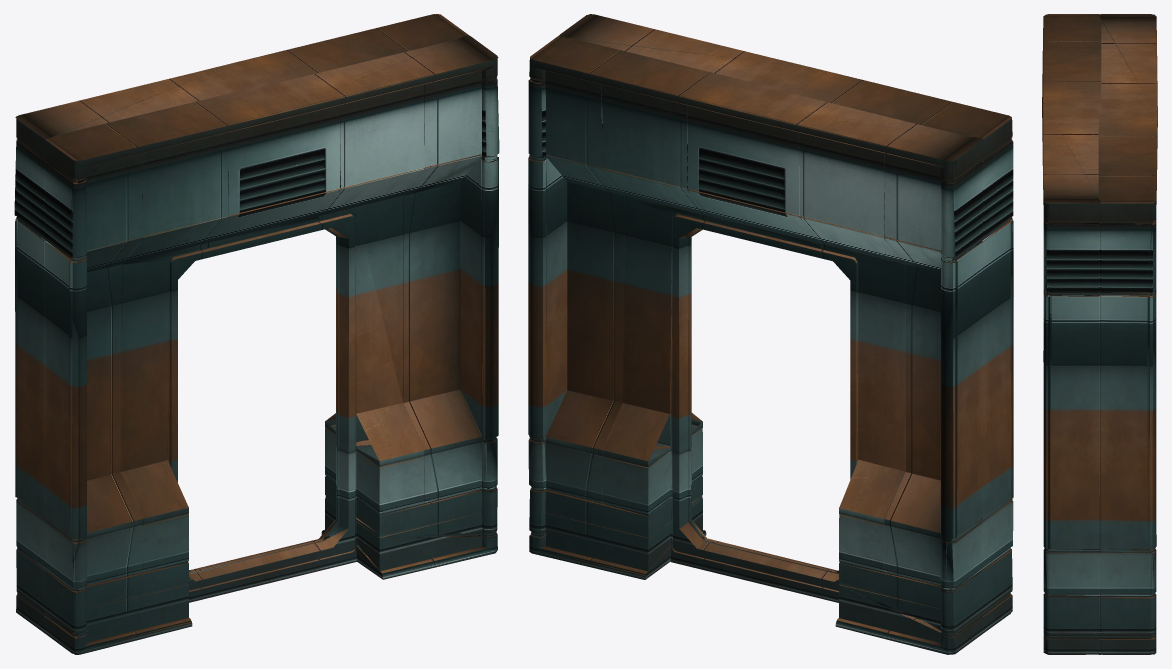
File: obj_space_lock.glb
The picture shows the model from 3 angles, left to right: view 1: azimuth 30°, elevation 25°; view 2: azimuth 150°, elevation 25°; view 3: azimuth 270°, elevation 25°; orthographic projection. The views are drawn at different scales.
Parts seen in each view (by area): view 1: geometry_0.001; view 2: geometry_0.001; view 3: geometry_0.001.
Part boxes in pixels (<box>): geometry_0.001: <box>14,14,499,654</box>; geometry_0.001: <box>528,14,1013,654</box>; geometry_0.001: <box>1042,14,1157,654</box>.
Bounding box in the file's own units: 0.8668 × 0.9531 × 0.2216.
Materials: 1 (1 with a texture image).
